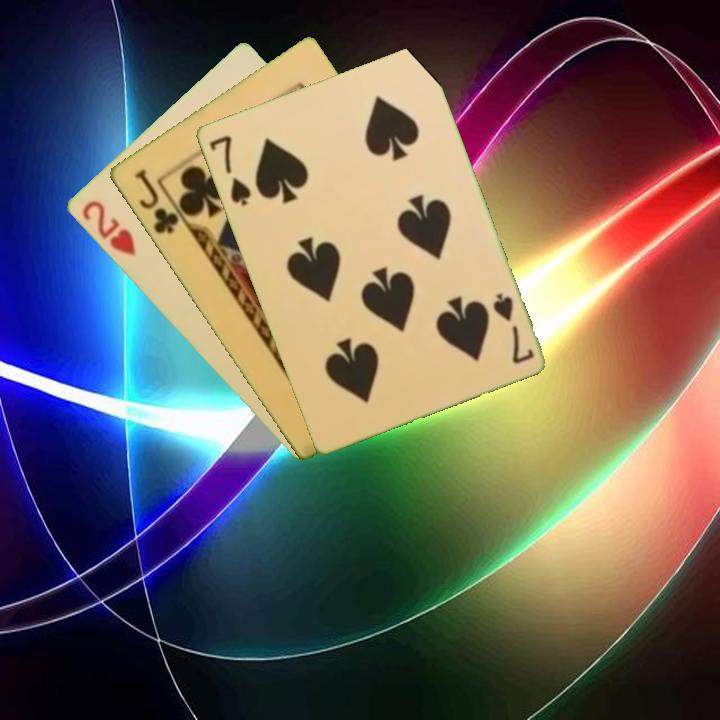2h: (78, 197, 139, 260)
7s: (205, 131, 254, 209), (488, 289, 537, 367)
Jc: (130, 165, 181, 237)
